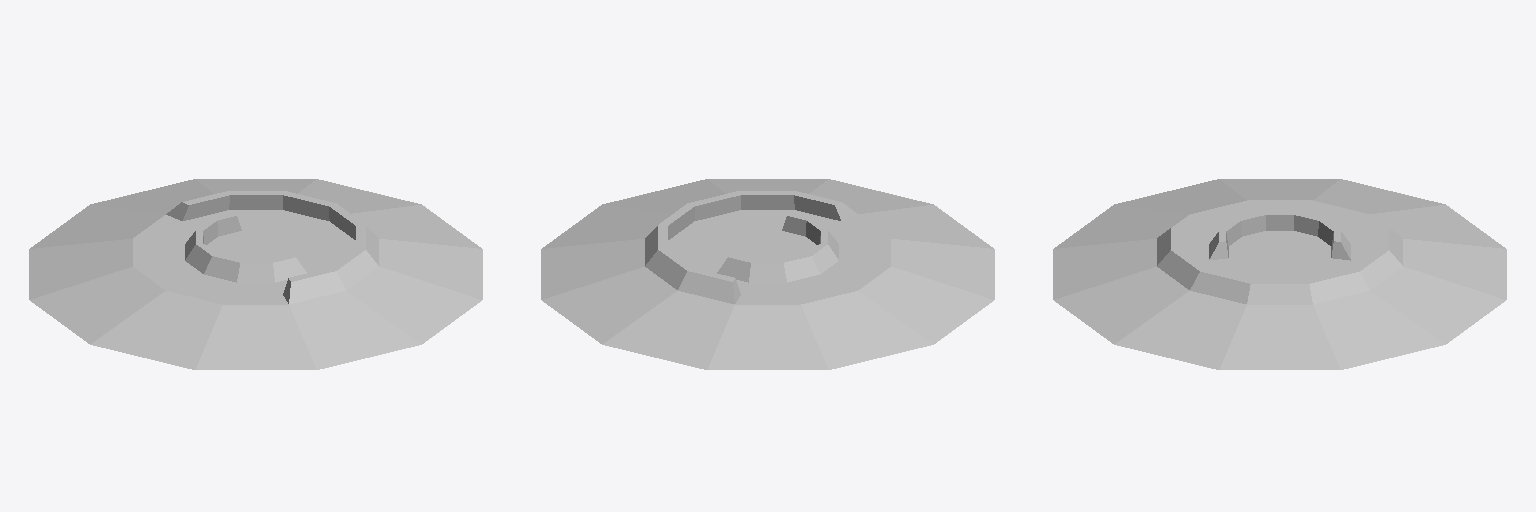
The model's file is LargePad.obj.
The picture shows the model from 3 angles: view 1: azimuth 30°, elevation 25°; view 2: azimuth 150°, elevation 25°; view 3: azimuth 270°, elevation 25°; orthographic projection.
Parts seen in each view (by area): view 1: landing_pad.001; view 2: landing_pad.001; view 3: landing_pad.001.
Boxes of the visible parts, <box> form: landing_pad.001: <box>29,179,482,369</box>; landing_pad.001: <box>541,179,994,369</box>; landing_pad.001: <box>1053,179,1506,369</box>.
Bounding box in the file's own units: 124 × 11.26 × 124.